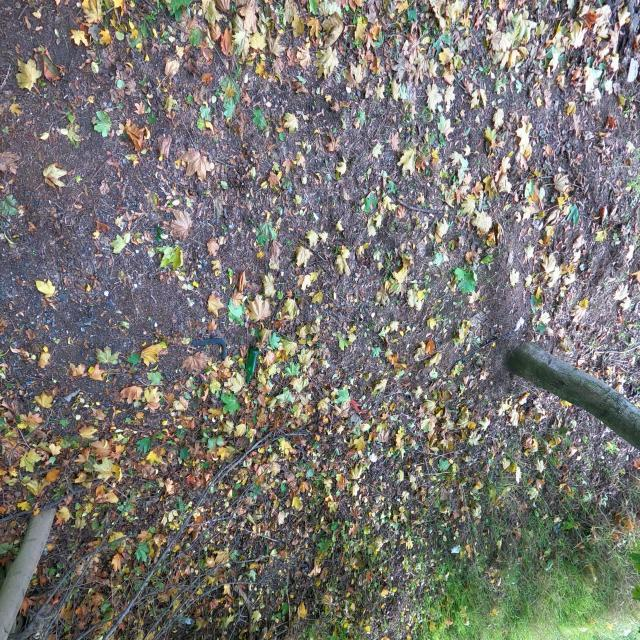rubbish: (413, 279, 448, 302), (381, 256, 395, 294), (178, 86, 190, 95), (444, 15, 458, 22)
